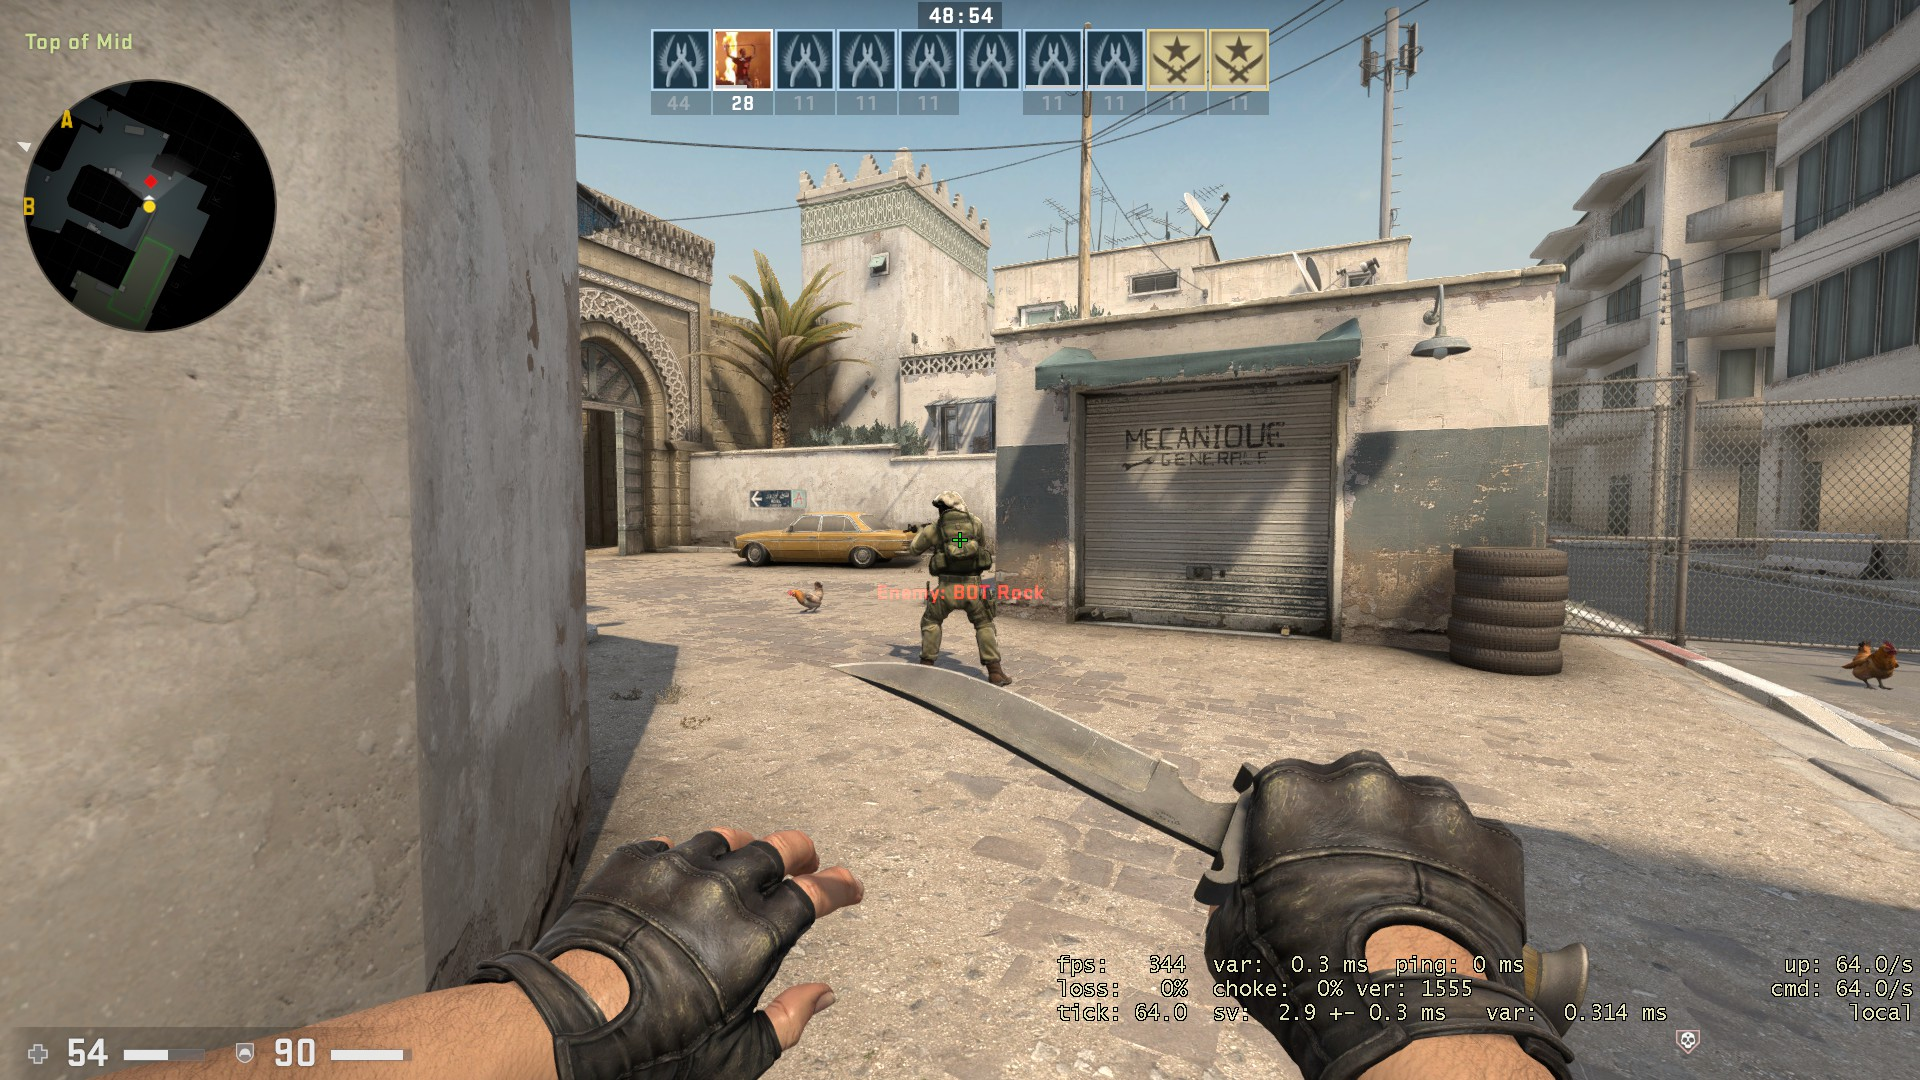player: (900, 484, 1020, 695)
